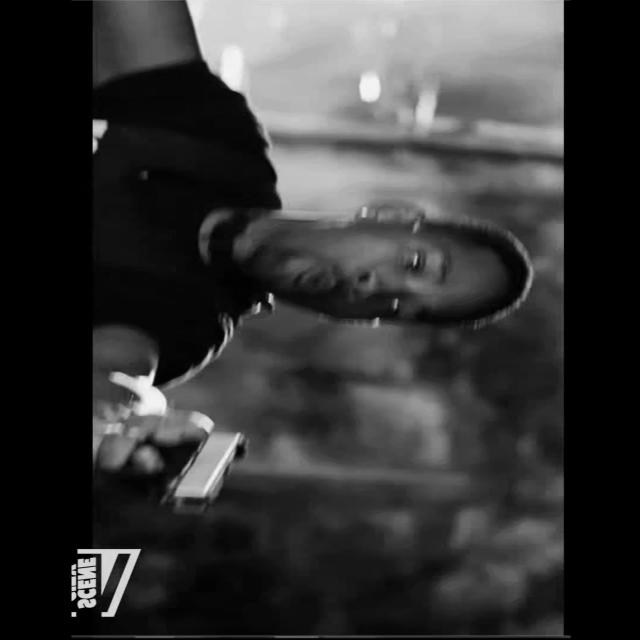weapons: (114, 417, 270, 522)
